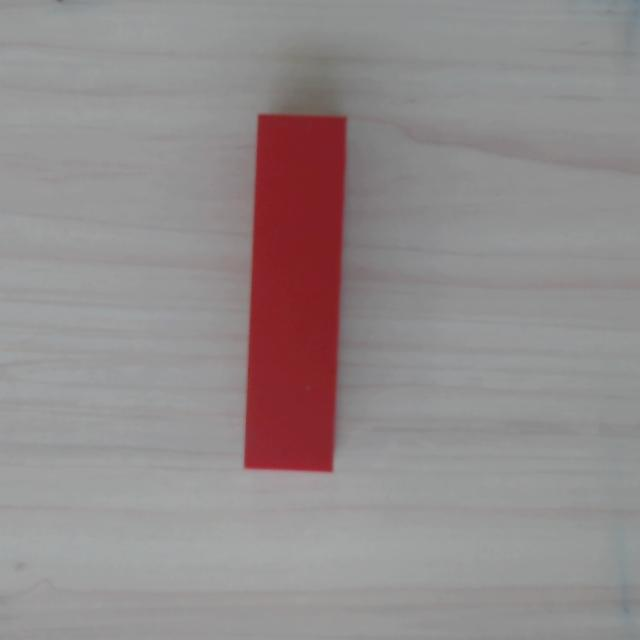Balok-Merah-1002525: (242, 113, 348, 472)
